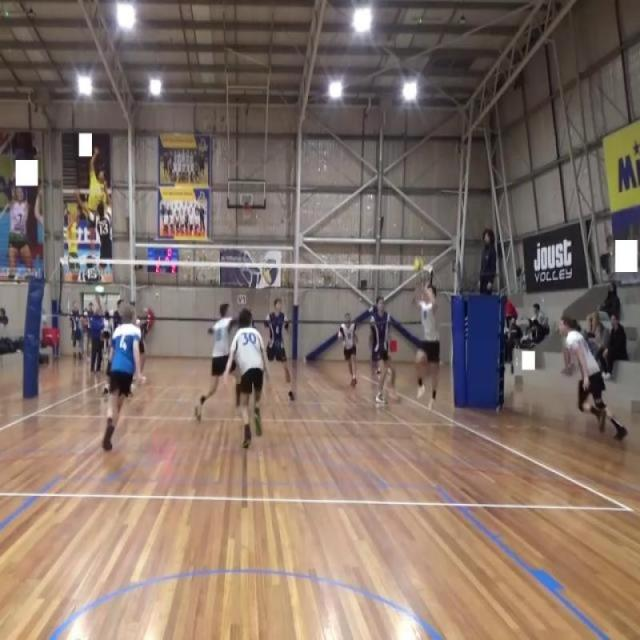volleyball: (412, 255, 424, 274)
